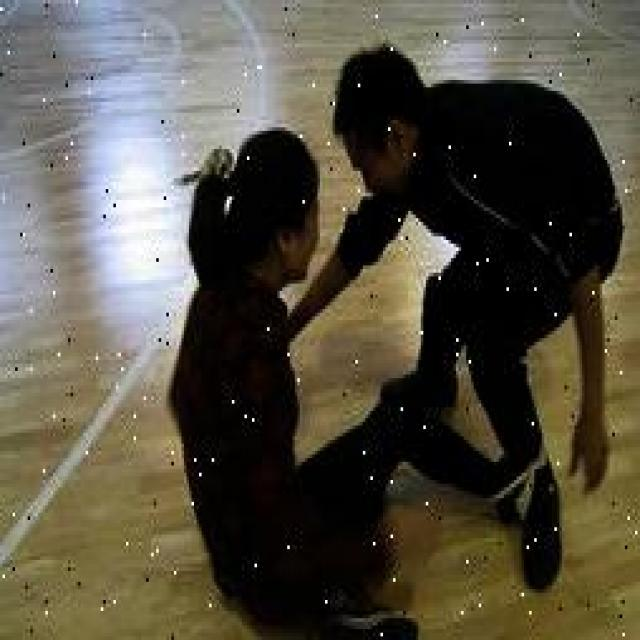fall: (176, 131, 468, 636)
